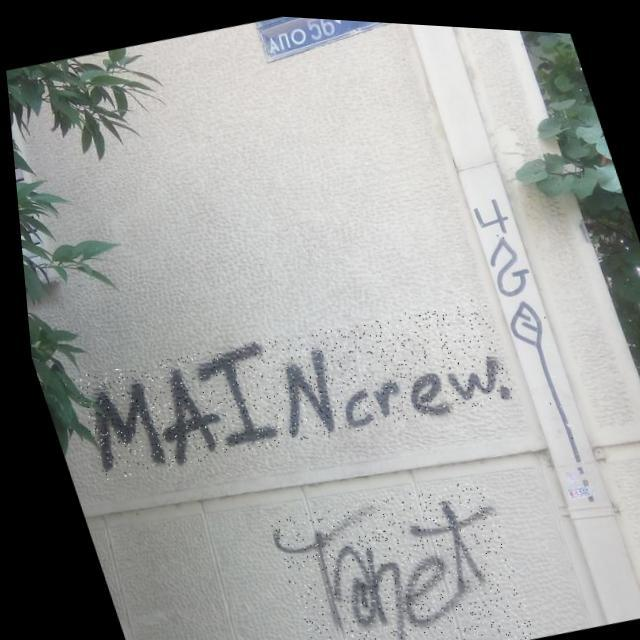-: (57, 272, 517, 498), (254, 462, 526, 640), (464, 189, 599, 503)
